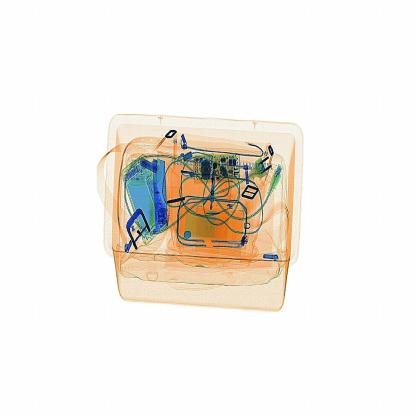pliers: (152, 156, 171, 232)
